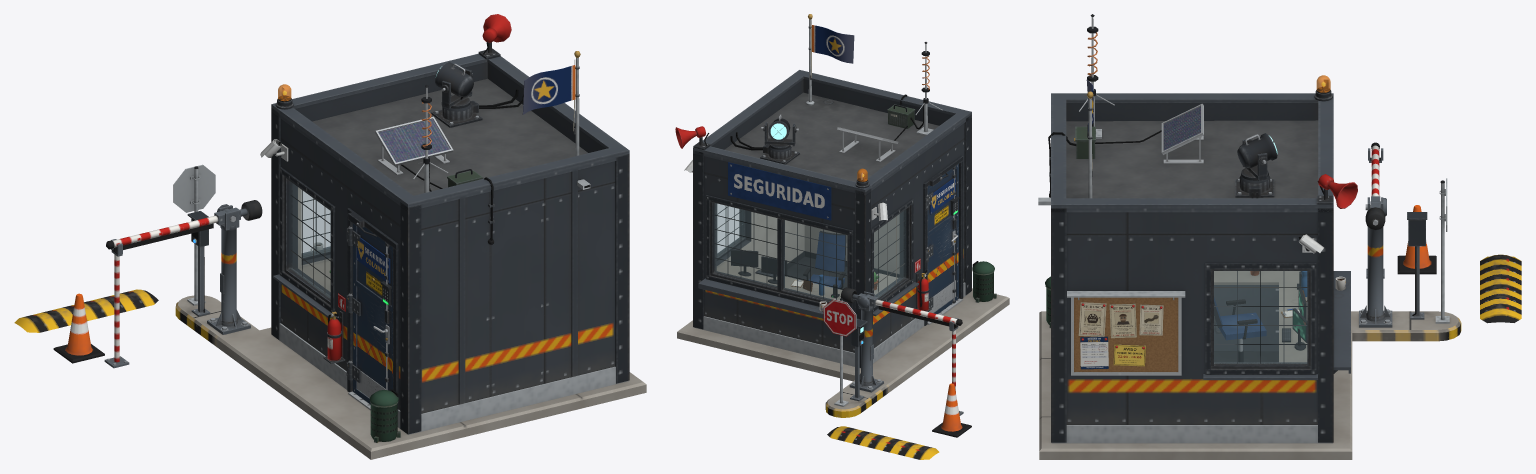
The model's file is puesto_seguridad.fbx.
3 views of the same model, side by side, from view 1: azimuth 30°, elevation 25°; view 2: azimuth 150°, elevation 25°; view 3: azimuth 270°, elevation 25° (orthographic). The views are drawn at different scales.
Parts seen in each view (by area): view 1: paredes, losa, techo, angulares, albardilla, puerta, zocalo, ventanal_cristal, ventanal_marcos, panel_solar, marco_puerta, bandera (+14 smaller); view 2: paredes, ventanal_cristal, techo, losa, albardilla, ventanal_marcos, angulares, puerta, letrero_frontal, zocalo, ventanal_malla, alfeizares (+20 smaller); view 3: paredes, techo, losa, tablon, albardilla, ventanal_cristal, angulares, mostrador, zocalo, ventanal_marcos, banda_reductora, alfeizares (+15 smaller).
Part boxes in pixels (box(x1,y1,x2,y2)): paredes: box(281, 62, 615, 413); losa: box(175, 295, 646, 459); techo: box(312, 78, 590, 195); angulares: box(271, 110, 629, 434); albardilla: box(271, 53, 629, 211); puerta: box(348, 223, 392, 404); zocalo: box(274, 323, 628, 434); ventanal_cristal: box(290, 182, 330, 298); ventanal_marcos: box(279, 167, 335, 312); panel_solar: box(375, 116, 453, 188); marco_puerta: box(346, 208, 398, 410); bandera: box(522, 51, 580, 156); paredes: box(704, 79, 964, 352); ventanal_cristal: box(714, 203, 905, 300); techo: box(725, 92, 938, 181); losa: box(677, 288, 1009, 417); albardilla: box(693, 70, 971, 195); ventanal_marcos: box(706, 195, 913, 311); angulares: box(693, 117, 971, 367); puerta: box(927, 164, 959, 314); letrero_frontal: box(728, 162, 831, 220); zocalo: box(694, 282, 970, 368); ventanal_malla: box(714, 204, 904, 299); alfeizares: box(698, 278, 918, 318); paredes: box(1066, 103, 1318, 424); techo: box(1038, 120, 1318, 205); losa: box(1039, 311, 1461, 459); tablon: box(1067, 291, 1185, 375); albardilla: box(1051, 93, 1333, 212); ventanal_cristal: box(1214, 271, 1306, 363); angulares: box(1051, 208, 1333, 442); mostrador: box(1214, 271, 1307, 362); zocalo: box(1052, 425, 1332, 443); ventanal_marcos: box(1205, 263, 1316, 374); banda_reductora: box(1480, 254, 1521, 323); alfeizares: box(1203, 271, 1350, 379).
Size of the model in its own units: 10.59 by 8.28 by 10.42.
4 materials, 1 textured.
